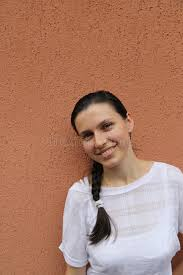person: (70, 90, 134, 170)
